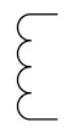inductor: (15, 7, 60, 127)
